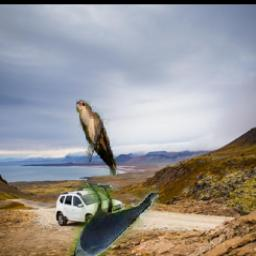Crow: (59, 183, 159, 256)
Cuckoo: (75, 101, 118, 177)
